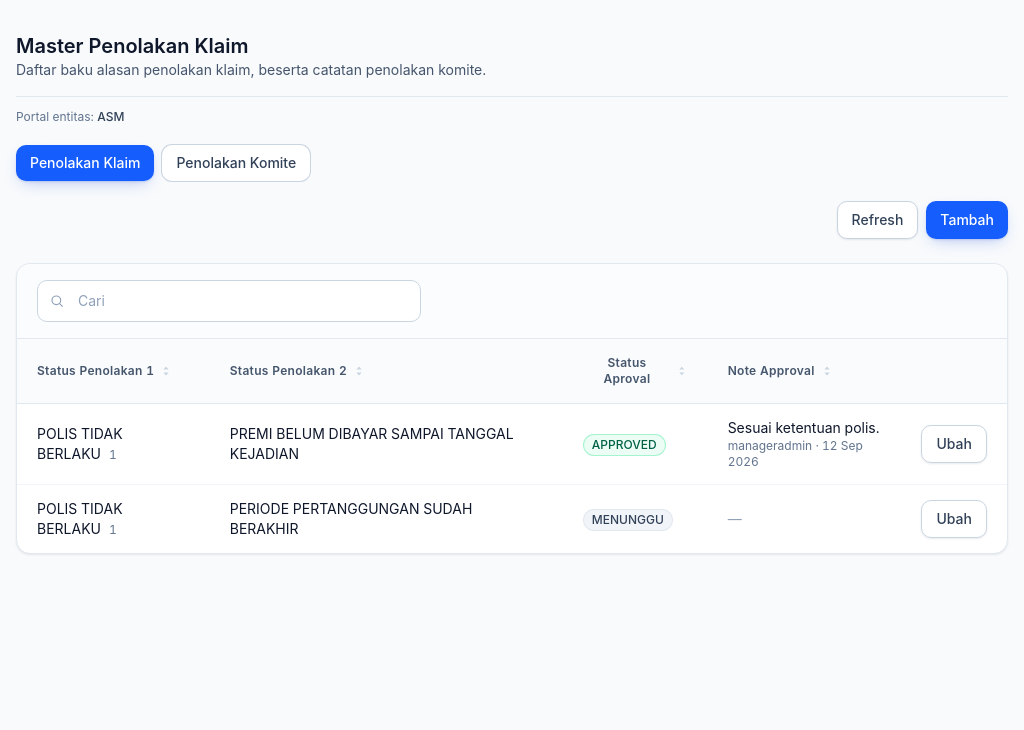
Scenario: menambah penolakan klaim › menolak menyimpan sebelum induk dipilih
Expected: the table is shown, [17,339,1007,553]
Click the button "Tambah" at {"x": 967, "y": 220}, box [926,201,1008,239]
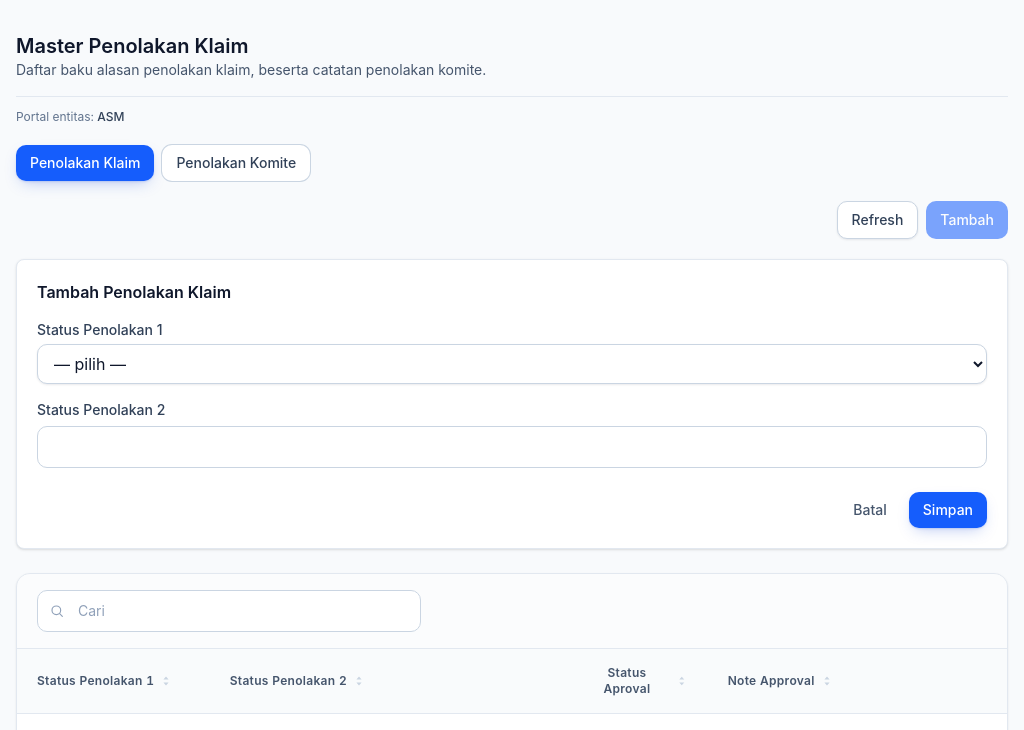
Type "X" into the field labelled "Status Penolakan 2" at {"x": 512, "y": 447}, box [37,426,987,468]
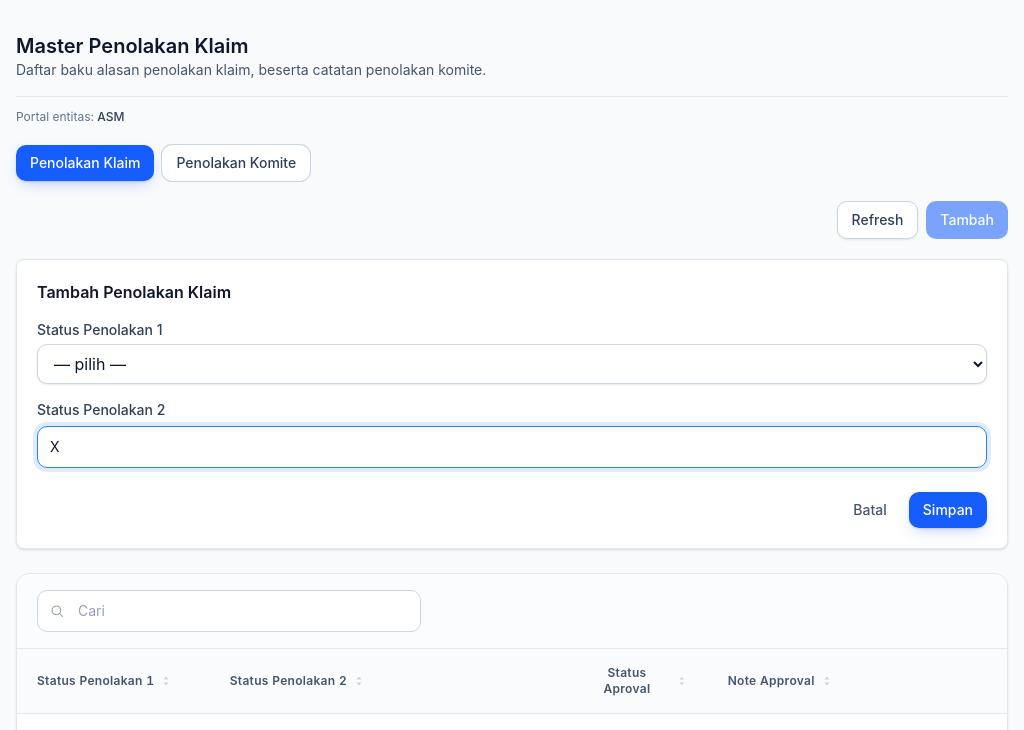
Click the button "Simpan" at {"x": 948, "y": 510}, box [909,492,987,528]
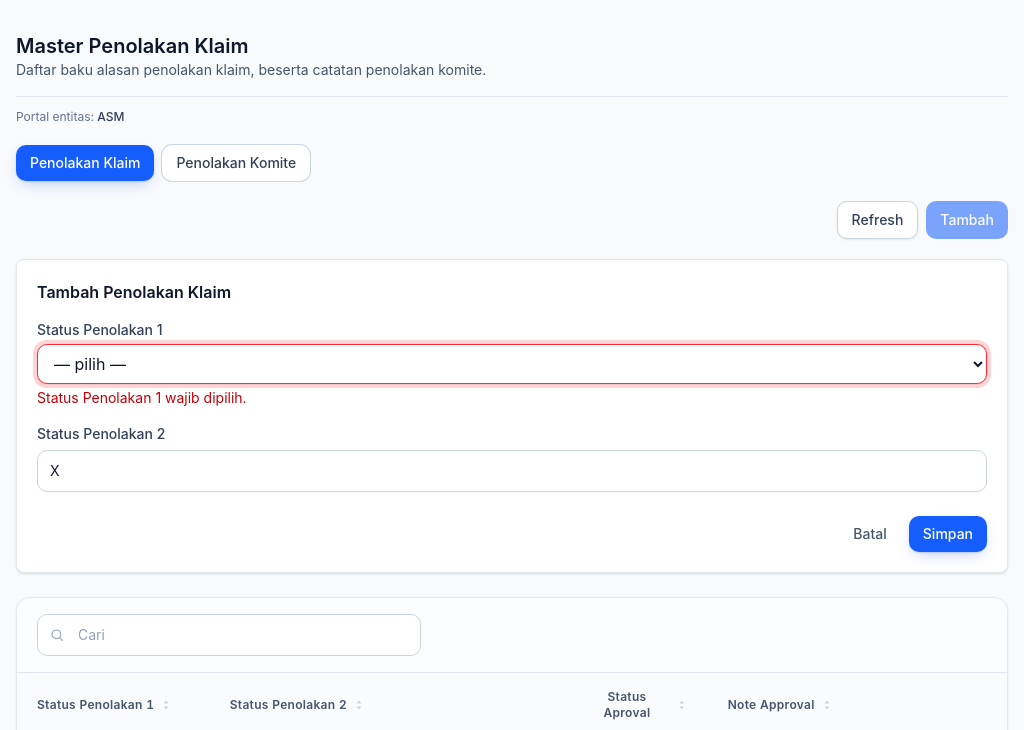
Expected: the text "Status Penolakan 1 wajib dipilih." is shown, [37,389,247,406]
